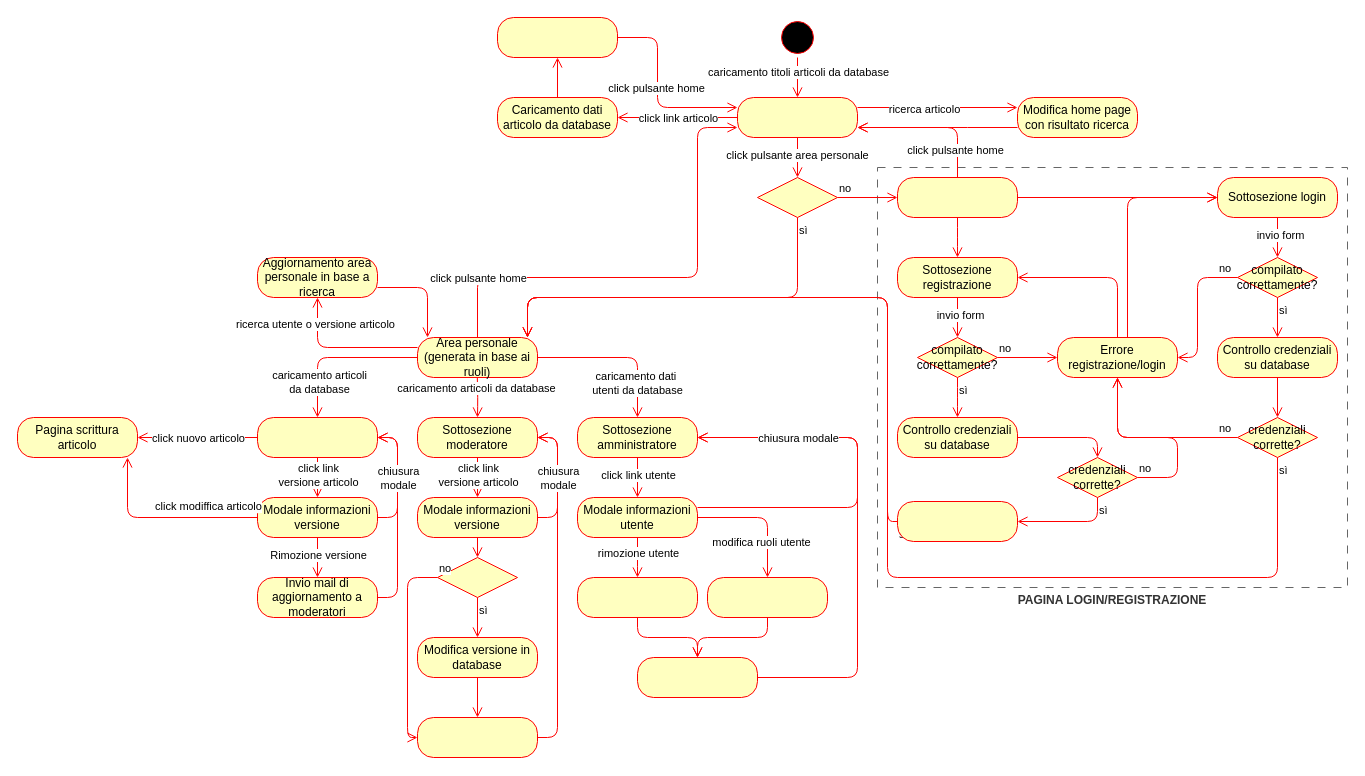
Image size: 1365x776. Some labels were removed from this diagram. Each missing label, with the centre of its shape:
"Home page" belongs at pixel 797 117.
"Invio mail candidatura ad amministratore" belongs at pixel 957 521.
"Invio mail di aggiornamento stato a scrittore coinvolto" belongs at pixel 477 737.
"Invio mail di aggiornamento stato a utente coinvolto" belongs at pixel 697 677.
"loggato?" belongs at pixel 797 197.
"modifica approvata?" belongs at pixel 477 577.
"Modifica utente in database" belongs at pixel 767 597.
"Pagina articolo" belongs at pixel 557 37.
"Pagina di login/registrazione" belongs at pixel 957 197.
"Rimozione utente in database" belongs at pixel 637 597.
"Sottosezione scrittore" belongs at pixel 317 437.
